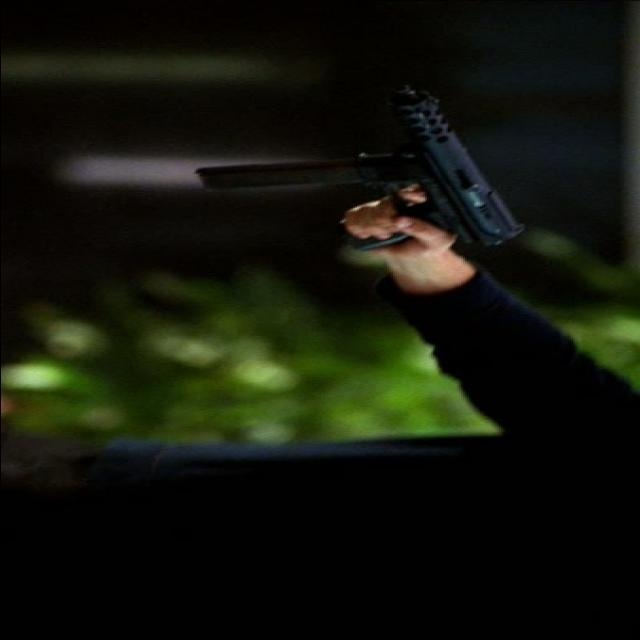weapons: (182, 73, 534, 276)
